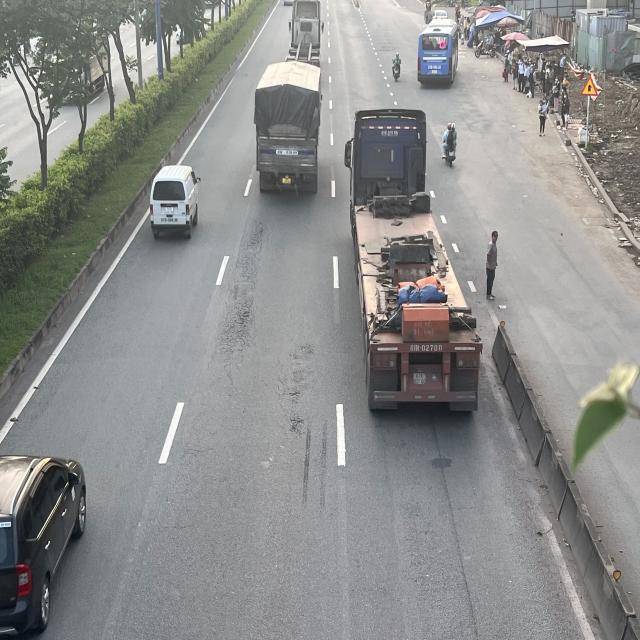car: (0, 459, 83, 640), (152, 166, 204, 241)
coach: (416, 24, 460, 86)
container: (344, 106, 485, 414), (289, 0, 323, 64)
truck: (254, 62, 324, 198)
